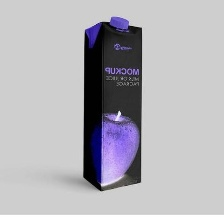carton: (80, 14, 145, 193)
